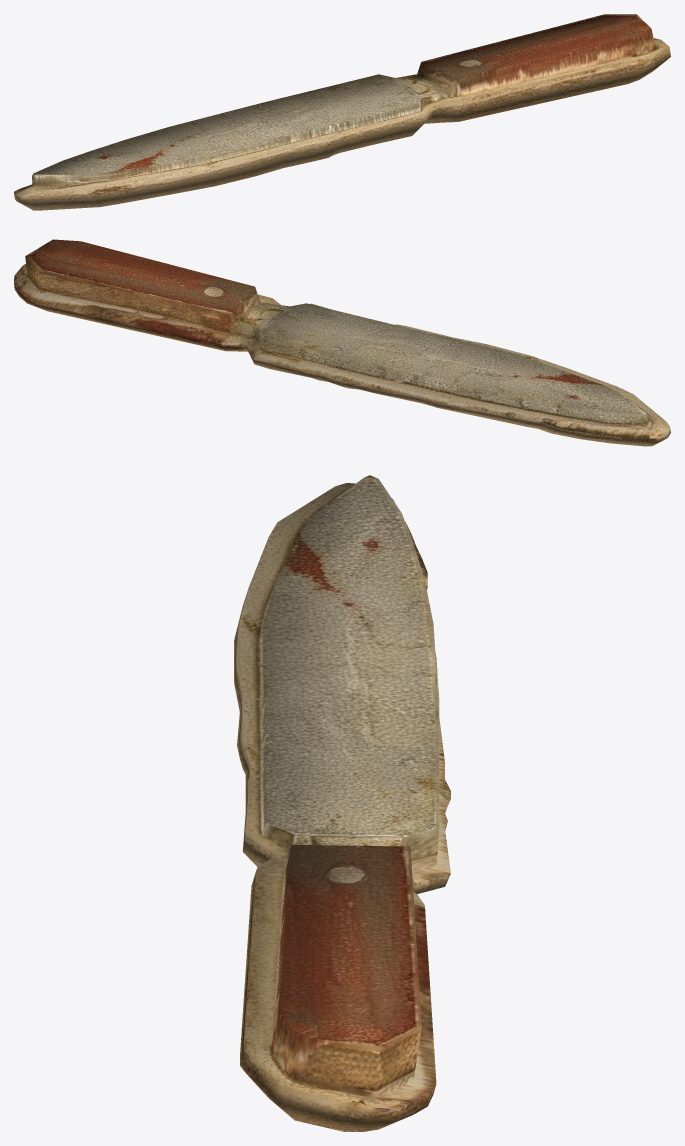
The picture shows the model from 3 angles, top to bottom: view 1: azimuth 30°, elevation 25°; view 2: azimuth 150°, elevation 25°; view 3: azimuth 270°, elevation 25°; orthographic projection. The views are drawn at different scales.
Visible parts, largest first — view 1: tripo_node_bc650348-bb42-498c-b6df-7ce772b66e92; view 2: tripo_node_bc650348-bb42-498c-b6df-7ce772b66e92; view 3: tripo_node_bc650348-bb42-498c-b6df-7ce772b66e92.
Part boxes in pixels (x1,y1,x2,y2): tripo_node_bc650348-bb42-498c-b6df-7ce772b66e92: (14, 14, 670, 210); tripo_node_bc650348-bb42-498c-b6df-7ce772b66e92: (14, 239, 670, 446); tripo_node_bc650348-bb42-498c-b6df-7ce772b66e92: (234, 475, 450, 1131).
Bounding box in the file's own units: 0.998 × 0.0684 × 0.1465.
1 material, 1 textured.
